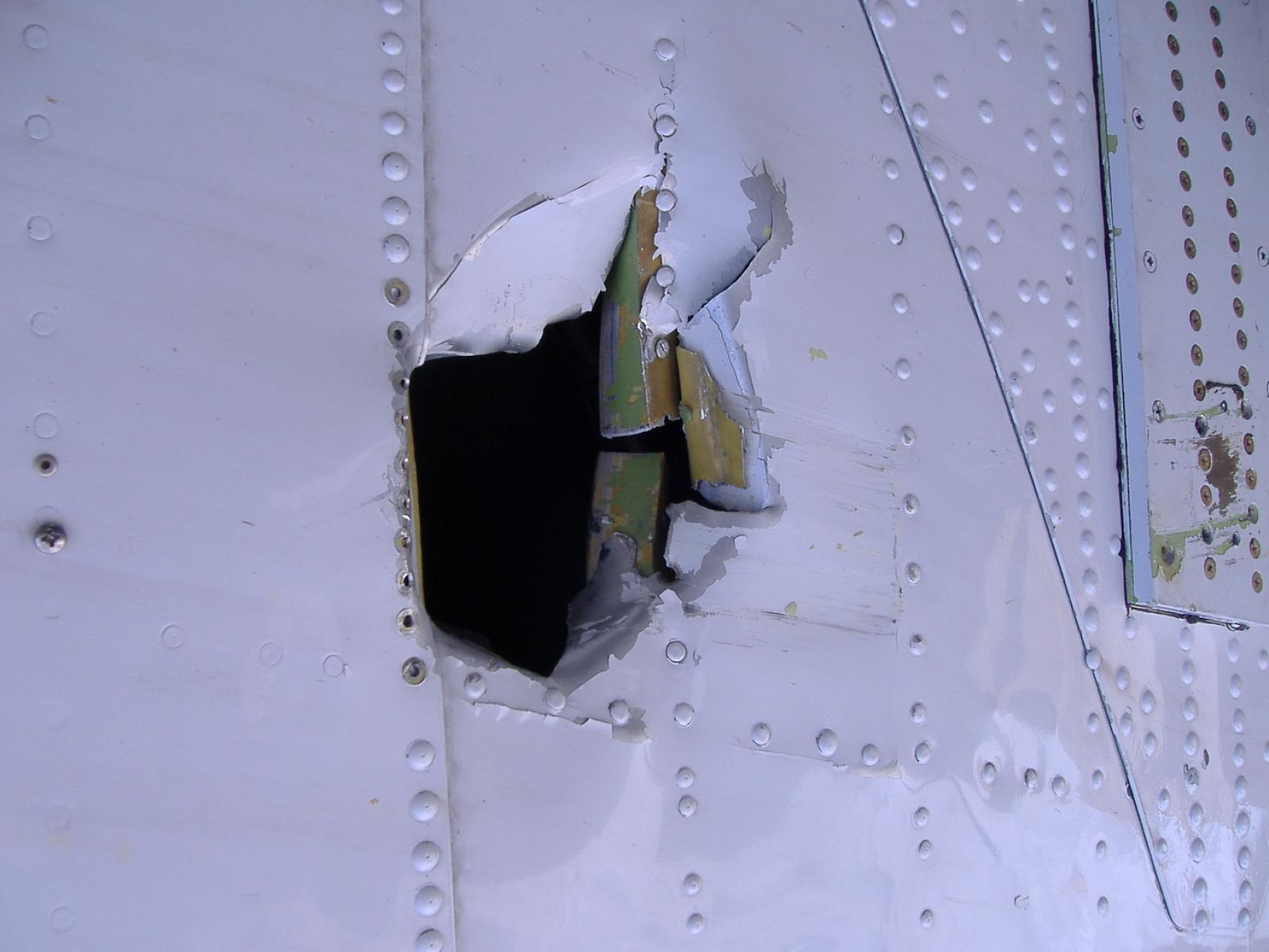Fuselage_damage: (410, 313, 679, 675), (600, 187, 679, 435), (592, 451, 667, 577), (418, 612, 511, 669), (672, 501, 785, 527)
Skin_Cover: (671, 428, 910, 646), (425, 158, 657, 353), (679, 169, 783, 511), (651, 126, 785, 324), (551, 534, 663, 694)
